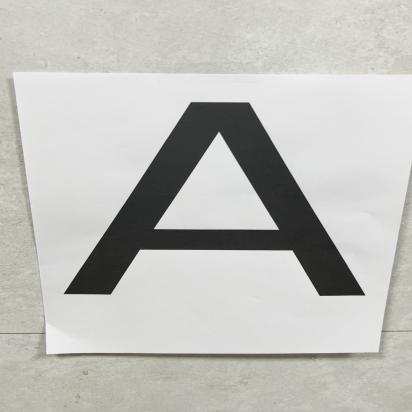seat: (75, 102, 366, 306)
